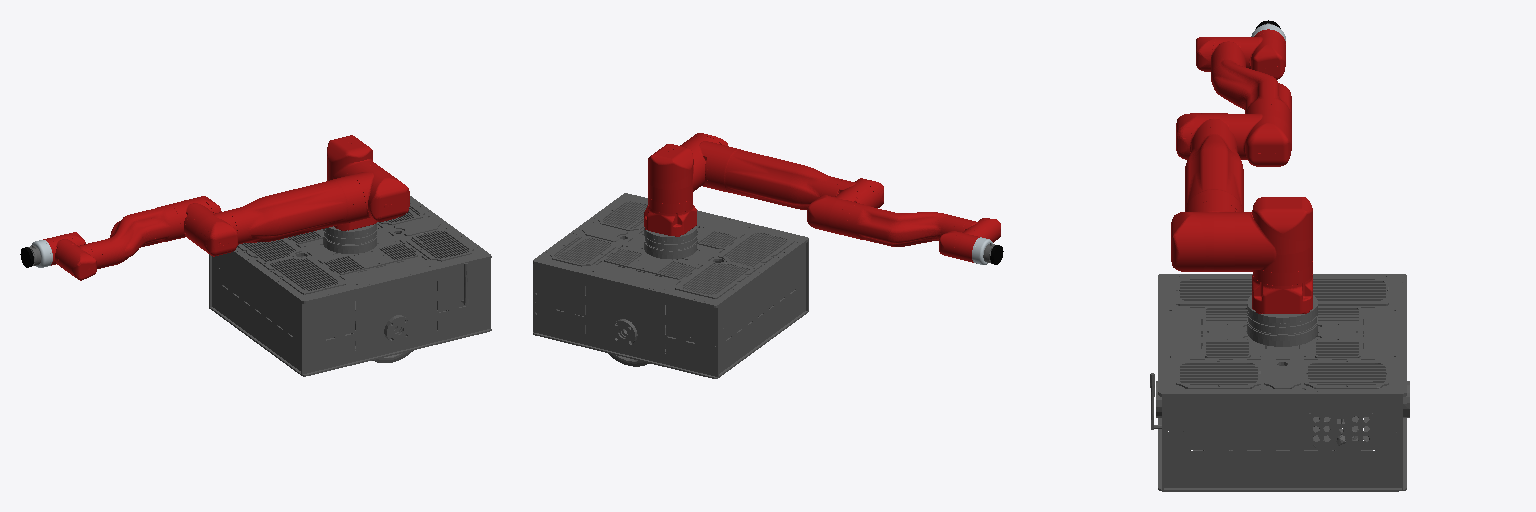
--- What the picture shows (computed from the rendered views, not written in the file) ---
3 views of the same robot in one strip: view 1: azimuth 30°, elevation 25°; view 2: azimuth 150°, elevation 25°; view 3: azimuth 270°, elevation 25° (orthographic).
Model mabi_mobile with 40 links and 39 joints (6 revolute, 33 fixed), rooted at base_link, posed every joint at zero.
Visible links, largest first — view 1: base_link, ARM, FOREARM, SHOULDER, BASE_FORCETORQUESENSOR, ELBOW; view 2: base_link, ARM, SHOULDER, FOREARM, ELBOW, WRIST_1, BASE_FORCETORQUESENSOR; view 3: base_link, ARM, SHOULDER, FOREARM, ELBOW, WRIST_1, BASE_FORCETORQUESENSOR, arm_mount.
Link boxes in pixels (x1,y1,x2,y2): base_link: (209, 196, 491, 376); ARM: (185, 165, 409, 256); FOREARM: (55, 205, 180, 280); SHOULDER: (327, 135, 382, 230); BASE_FORCETORQUESENSOR: (323, 228, 376, 249); ELBOW: (169, 196, 221, 238); base_link: (533, 193, 808, 378); ARM: (680, 133, 883, 209); SHOULDER: (644, 144, 705, 236); FOREARM: (847, 203, 1000, 246); ELBOW: (807, 192, 860, 236); WRIST_1: (939, 229, 980, 262); BASE_FORCETORQUESENSOR: (644, 230, 697, 254); base_link: (1150, 274, 1409, 491); ARM: (1171, 113, 1243, 271); SHOULDER: (1235, 197, 1312, 313); FOREARM: (1196, 37, 1291, 122); ELBOW: (1241, 104, 1291, 166); WRIST_1: (1249, 29, 1285, 79); BASE_FORCETORQUESENSOR: (1247, 310, 1317, 340); arm_mount: (1247, 295, 1317, 323).
Size in the robot's own frame: 1.81 by 0.7309 by 0.7686 metres.
Meshes: 16 distinct files referenced, 11 mesh visuals loaded (10 binary STL); not drawn: 11 (reference not matched to a file when rendering).

URDF robot description (mabi_mobile):
<?xml version="1.0" encoding="utf-8"?>
<!-- =================================================================================== -->
<!-- |    This document was autogenerated by xacro from [local-path]/catkin_ws/src/mabi_mobile/mabi_mobile_description/urdf/mabi_mobile.urdf.xacro | -->
<!-- |    EDITING THIS FILE BY HAND IS NOT RECOMMENDED                                 | -->
<!-- =================================================================================== -->
<robot name="mabi_mobile">
  <material name="black">
    <color rgba="0.0 0.0 0.0 1.0"/>
  </material>
  <material name="blue">
    <color rgba="0.0 0.0 0.8 1.0"/>
  </material>
  <material name="green">
    <color rgba="0.0 0.8 0.0 1.0"/>
  </material>
  <material name="grey">
    <color rgba="0.2 0.2 0.2 1.0"/>
  </material>
  <material name="light_grey">
    <color rgba="0.4 0.4 0.4 1.0"/>
  </material>
  <material name="orange">
    <color rgba="1.0 0.423529411765 0.0392156862745 1.0"/>
  </material>
  <material name="brown">
    <color rgba="0.870588235294 0.811764705882 0.764705882353 1.0"/>
  </material>
  <material name="red">
    <color rgba="0.8 0.0 0.0 1.0"/>
  </material>
  <material name="white">
    <color rgba="1.0 1.0 1.0 1.0"/>
  </material>
  <!-- [m] -->
  <!-- [m] -->
  <!-- [m] -->
  <!-- [m] -->
  <!-- [m] -->
  <!-- [m] -->
  <!-- [m] -->
  <!-- [m] -->
  <!-- [m] -->
  <!-- ====== -->
  <!-- [Nm] friction -->
  <!-- [Nm] -->
  <!-- [Nm] -->
  <!-- [Nm] -->
  <!-- [Nm] -->
  <!-- [Nm] -->
  <material name="mabi_red">
    <color rgba="0.698039215686 0.133333333333 0.133333333333 1.0"/>
  </material>
  <link name="BASE_ADAPTER_1">
    <visual>
      <origin rpy="0 0 0" xyz="0 0 0.009"/>
      <geometry>
        <cylinder length="0.018" radius="0.1"/>
      </geometry>
      <material name="gray">
        <color rgba="0.411764705882 0.411764705882 0.411764705882 1.0"/>
      </material>
    </visual>
    <collision name="collision">
      <origin rpy="0 0 0" xyz="0 0 0.009"/>
      <geometry>
        <cylinder length="0.018" radius="0.1"/>
      </geometry>
    </collision>
    <inertial>
      <origin rpy="0 0 0" xyz="0 0 0"/>
      <mass value="1.28"/>
      <inertia ixx="0.00063" ixy="0.0" ixz="0.0" iyy="0.00063" iyz="0.0" izz="0.0125"/>
    </inertial>
  </link>
  <!-- Joint: BASE_ADAPTER_1_JOINT -->
  <joint name="BASE_ADAPTER_1_JOINT" type="fixed">
    <parent link="arm_base"/>
    <child link="BASE_ADAPTER_1"/>
    <origin rpy="0 0 0" xyz="0.0 0.0 0.0"/>
  </joint>
  <!-- Gazebo customization -->
  <gazebo reference="BASE_ADAPTER_1">
    <kp>1000000.0</kp>
    <kd>1.5</kd>
    <mu1>1.2</mu1>
    <mu2>1.2</mu2>
    <self_collide>1</self_collide>
  </gazebo>
  <!-- -0.055/2-0.018, -sensor/2-adapter2  [m] -->
  <!-- Joint: SENSOR_FRAME -->
  <joint name="BASE_FORCETORQUESENSOR_FRAME" type="fixed">
    <parent link="BASE_ADAPTER_1"/>
    <child link="BASE_FORCETORQUESENSOR"/>
    <origin rpy="0.0 0.0 0.0" xyz="0.0 0.0 0.091"/>
    <limit effort="0" lower="0" upper="0" velocity="0"/>
  </joint>
  <!-- sensor link -->
  <link name="BASE_FORCETORQUESENSOR">
    <visual>
      <origin rpy="3.141593 0.0 0.0" xyz="0.0 0.0 -0.028"/>
      <geometry>
        <mesh filename="package://perceptive_mpc/urdf/mabi/meshes/RKL100.stl" scale="0.001 0.001 0.001"/>
      </geometry>
      <material name="gray">
        <color rgba="0.411764705882 0.411764705882 0.411764705882 1.0"/>
      </material>
    </visual>
    <inertial>
      <origin rpy="0 0 1.57079327" xyz="0.0 0.0 -0.033"/>
      <mass value="2.5"/>
      <inertia ixx="0.0" ixy="0.0" ixz="0.0" iyy="0.0" iyz="0.0" izz="0.0"/>
    </inertial>
    <collision name="collision">
      <origin rpy="0 0 0" xyz="0.0 0.0 -0.0455"/>
      <geometry>
        <cylinder length="0.055" radius="0.1"/>
      </geometry>
    </collision>
  </link>
  <joint name="BASE_FORCETORQUESENSOR_JOINT" type="fixed">
    <parent link="BASE_FORCETORQUESENSOR"/>
    <child link="arm_mount"/>
    <origin rpy="0 0 0" xyz="0 0 0"/>
    <limit effort="0" lower="0" upper="0" velocity="0"/>
  </joint>
  <!-- Gazebo customization -->
  <gazebo reference="BASE_FORCETORQUESENSOR">
    <kp>1000000.0</kp>
    <kd>1.5</kd>
    <mu1>1000000000</mu1>
    <mu2>1000000000</mu2>
    <self_collide>1</self_collide>
  </gazebo>
  <gazebo reference="BASE_FORCETORQUESENSOR_JOINT">
    <provideFeedback>1</provideFeedback>
  </gazebo>
  <link name="BASE_IMU"/>
  <joint name="BASE_IMU_JOINT" type="fixed">
    <origin rpy="0 0 0" xyz="0 0 0"/>
    <parent link="BASE_FORCETORQUESENSOR"/>
    <child link="BASE_IMU"/>
  </joint>
  <link name="arm_mount">
    <visual>
      <origin rpy="0 0 0" xyz="0.0 0.0 -0.009"/>
      <geometry>
        <cylinder length="0.018" radius="0.1"/>
      </geometry>
      <material name="gray">
        <color rgba="0.411764705882 0.411764705882 0.411764705882 1.0"/>
      </material>
    </visual>
    <collision name="collision">
      <origin rpy="0 0 0" xyz="0 0 0.009"/>
      <geometry>
        <cylinder length="0.017" radius="0.1"/>
        <!-- -0.001 to prevent collision with base sensor if revolute sensor joint bends-->
      </geometry>
    </collision>
    <inertial>
      <origin rpy="0 0 0" xyz="0 0 0"/>
      <mass value="1.28"/>
      <inertia ixx="0.5" ixy="0.0" ixz="0.0" iyy="0.5" iyz="0.0" izz="0.0"/>
    </inertial>
  </link>
  <!-- Gazebo customization -->
  <gazebo reference="arm_mount">
    <kp>1000000.0</kp>
    <kd>1.5</kd>
    <mu1>1.2</mu1>
    <mu2>1.2</mu2>
    <self_collide>1</self_collide>
  </gazebo>
  <!-- shoulder link -->
  <link name="SHOULDER">
    <visual>
      <origin rpy="0 0 0" xyz="0 0 0"/>
      <geometry>
        <mesh filename="package://perceptive_mpc/urdf/mabi/meshes/shoulder.STL" scale="0.001 0.001 0.001"/>
      </geometry>
      <material name="mabi_red"/>
    </visual>
    <collision name="collision">
      <origin rpy="0.0 0.0 0.0" xyz="0.0 0.0 -0.03"/>
      <geometry>
        <cylinder length="0.31" radius="0.09"/>
      </geometry>
    </collision>
    <inertial>
      <origin rpy="0 0 0" xyz="-0.047924822 0.0 -0.002274739"/>
      <mass value="7.6494994"/>
      <inertia ixx="0.029999999" ixy="3.2869e-05" ixz="0.000721956" iyy="0.059745945" iyz="1.0358e-05" izz="0.056496362"/>
    </inertial>
  </link>
  <!-- Joint: SH_ROT -->
  <joint name="SH_ROT" type="revolute">
    <parent link="arm_mount"/>
    <child link="SHOULDER"/>
    <origin rpy="0 0 0" xyz="0.0 0.0 0.189"/>
    <axis xyz="0 0 1"/>
    <limit effort="150.0" lower="-5.23598775598" upper="5.23598775598" velocity="1.308996939"/>
    <dynamics damping="0.1" friction="0.3"/>
  </joint>
  <!-- Gazebo customization -->
  <gazebo reference="SHOULDER">
    <kp>1000000.0</kp>
    <kd>1.5</kd>
    <mu1>1.2</mu1>
    <mu2>1.2</mu2>
    <self_collide>1</self_collide>
  </gazebo>
  <gazebo reference="SH_ROT">
        </gazebo>
  <!-- arm link -->
  <link name="ARM">
    <visual>
      <origin rpy="0 0 0" xyz="0 0 0"/>
      <geometry>
        <mesh filename="package://perceptive_mpc/urdf/mabi/meshes/arm.STL" scale="0.001 0.001 0.001"/>
      </geometry>
      <material name="mabi_red"/>
    </visual>
    <collision name="collision_motor_1">
      <origin rpy="0.0 0.0 0.0" xyz="0.0 0.0 0.205"/>
      <geometry>
        <cylinder length="0.22" radius="0.09"/>
      </geometry>
    </collision>
    <collision name="collision_arm">
      <origin rpy="0.0 1.57079632679 0.0" xyz="0.36 0.0 0.195"/>
      <geometry>
        <cylinder length="0.52" radius="0.085"/>
      </geometry>
    </collision>
    <collision name="collision_motor_2">
      <origin rpy="0.0 0.0 0.0" xyz="0.7 0.0 0.205"/>
      <geometry>
        <cylinder length="0.19" radius="0.07"/>
      </geometry>
    </collision>
    <inertial>
      <origin rpy="0 0 0" xyz="0.29409722 0.0 0.19270522"/>
      <mass value="13.640494"/>
      <inertia ixx="0.060898243" ixy="-0.00013513623" ixz="-0.013074267" iyy="1.1757653" iyz="-2.6102602e-05" izz="1.1722998"/>
    </inertial>
  </link>
  <!-- Joint: SH_FLE -->
  <joint name="SH_FLE" type="revolute">
    <parent link="SHOULDER"/>
    <child link="ARM"/>
    <origin rpy="-1.57079632679 0 1.57079632679" xyz="0.0 0.0 0.0"/>
    <axis xyz="0 0 1"/>
    <limit effort="150.0" lower="-3.14159265359" upper="0.0" velocity="1.308996939"/>
    <dynamics damping="0.1" friction="0.3"/>
  </joint>
  <!-- Gazebo customization -->
  <gazebo reference="ARM">
    <kp>1000000.0</kp>
    <kd>1.5</kd>
    <mu1>1.2</mu1>
    <mu2>1.2</mu2>
  </gazebo>
  <gazebo reference="SH_FLE">
        </gazebo>
  <!-- Elbow link -->
  <link name="ELBOW">
    <visual>
      <origin rpy="0 0 0" xyz="0 0 0.0"/>
      <geometry>
        <mesh filename="package://perceptive_mpc/urdf/mabi/meshes/elbow.STL" scale="0.001 0.001 0.001"/>
      </geometry>
      <material name="mabi_red"/>
    </visual>
    <collision name="collision">
      <origin rpy="0.0 1.57079632679 0.0" xyz="0.115 0.0 0.0"/>
      <geometry>
        <cylinder length="0.46" radius="0.066"/>
      </geometry>
    </collision>
    <inertial>
      <origin rpy="0 0 0" xyz="-0.0045213596 -0.0001046407 0.035705904"/>
      <mass value="4.6480036"/>
      <inertia ixx="0.021549076" ixy="-2.5845846e-05" ixz="-0.00062888563" iyy="0.02331519" iyz="-3.1906253e-05" izz="0.011591539"/>
    </inertial>
  </link>
  <!-- Joint: EL_FLE -->
  <joint name="EL_FLE" type="revolute">
    <parent link="ARM"/>
    <child link="ELBOW"/>
    <origin rpy="0 0 0" xyz="0.7 0.0 0.04"/>
    <axis xyz="0 0 1"/>
    <limit effort="100.0" lower="-2.47836753783" upper="2.47836753783" velocity="2.53072741539"/>
    <dynamics damping="0.1" friction="0.2"/>
  </joint>
  <!-- Gazebo customization -->
  <gazebo reference="ELBOW">
    <kp>1000000.0</kp>
    <kd>1.5</kd>
    <mu1>1.2</mu1>
    <mu2>1.2</mu2>
  </gazebo>
  <gazebo reference="EL_FLE">
        </gazebo>
  <!-- Forearm link -->
  <link name="FOREARM">
    <visual>
      <origin rpy="0 0 0" xyz="0 0 0"/>
      <geometry>
        <mesh filename="package://perceptive_mpc/urdf/mabi/meshes/forearm.STL" scale="0.001 0.001 0.001"/>
      </geometry>
      <material name="mabi_red"/>
    </visual>
    <collision name="collision_farm">
      <origin rpy="0.0 0.0 0.0" xyz="0.0 0.115 0.37"/>
      <geometry>
        <cylinder length="0.25" radius="0.048"/>
      </geometry>
    </collision>
    <collision name="collision_motor">
      <origin rpy="1.57079632679 0.0 0.0" xyz="0.0 0.13 0.55"/>
      <geometry>
        <cylinder length="0.145" radius="0.05"/>
      </geometry>
    </collision>
    <inertial>
      <origin rpy="0 0 0" xyz="-0.00051024005 0.047442921 0.27441632"/>
      <mass value="5.7271652"/>
      <inertia ixx="0.24731453" ixy="-0.00015557711" ixz="-0.0003643398" iyy="0.2306736" iyz="-0.05673063" izz="0.029585235"/>
    </inertial>
  </link>
  <!-- Joint: EL_ROT -->
  <joint name="EL_ROT" type="revolute">
    <parent link="ELBOW"/>
    <child link="FOREARM"/>
    <origin rpy="1.57079632679 0 1.57079632679" xyz="0.0 0.0 0.0"/>
    <axis xyz="0 0 1"/>
    <limit effort="40.0" lower="-5.23598775598" upper="5.23598775598" velocity="2.53072741539"/>
    <dynamics damping="0.1" friction="0.2"/>
  </joint>
  <!-- Gazebo customization -->
  <gazebo reference="FOREARM">
    <kp>1000000.0</kp>
    <kd>1.5</kd>
    <mu1>1.2</mu1>
    <mu2>1.2</mu2>
  </gazebo>
  <gazebo reference="EL_ROT">
        </gazebo>
  <!-- wrist1 link -->
  <link name="WRIST_1">
    <visual>
      <origin rpy="0 0 0" xyz="0 0 0.0"/>
      <geometry>
        <mesh filename="package://perceptive_mpc/urdf/mabi/meshes/wrist.STL" scale="0.001 0.001 0.001"/>
      </geometry>
      <material name="mabi_red"/>
    </visual>
    <collision name="collision">
      <origin rpy="1.57079632679 0.0 0.0" xyz="0.0 0.016 0.0"/>
      <geometry>
        <cylinder length="0.148" radius="0.05"/>
      </geometry>
    </collision>
    <inertial>
      <origin rpy="0 0 0" xyz="0.0 0.0 0.0"/>
      <mass value="1.9710281"/>
      <inertia ixx="0.0066945672" ixy="4.5275e-06" ixz="-7.5009e-06" iyy="0.0055642118" iyz="0.0003509941" izz="0.0038716147"/>
    </inertial>
  </link>
  <!-- Joint: WR_FLE -->
  <joint name="WR_FLE" type="revolute">
    <parent link="FOREARM"/>
    <child link="WRIST_1"/>
    <origin rpy="-1.57079632679 0 0" xyz="0.0 0.0 0.55"/>
    <axis xyz="0 0 1"/>
    <limit effort="40.0" lower="-2.39110107523" upper="2.39110107523" velocity="4.79965544298"/>
    <dynamics damping="0.1" friction="0.1"/>
  </joint>
  <!-- Gazebo customization -->
  <gazebo reference="WRIST_1">
    <kp>1000000.0</kp>
    <kd>1.5</kd>
    <mu1>1.2</mu1>
    <mu2>1.2</mu2>
  </gazebo>
  <gazebo reference="WR_FLE">
        </gazebo>
  <!-- Wrist2 link -->
  <link name="WRIST_2">
    <visual>
      <origin rpy="0 0 0" xyz="0 0.0 -0.01"/>
      <geometry>
        <mesh filename="package://perceptive_mpc/urdf/mabi/meshes/tool.STL" scale="0.001 0.001 0.001"/>
      </geometry>
      <material name="silver">
        <color rgba="0.737254901961 0.776470588235 0.8 1.0"/>
      </material>
    </visual>
    <collision name="collision">
      <origin rpy="0.0 0.0 0.0" xyz="0.0 0.0 -0.02"/>
      <geometry>
        <cylinder length="0.038" radius="0.05"/>
      </geometry>
    </collision>
    <inertial>
      <origin rpy="0 0 0" xyz="-0.00038203947 -0.0019245031 -0.03"/>
      <mass value="1.7057686"/>
      <inertia ixx="0.0046630423" ixy="-1.6647842e-07" ixz="-2.5100296e-05" iyy="0.0046335717" iyz="4.8450275e-05" izz="0.002284043"/>
    </inertial>
  </link>
  <!-- Joint: WR_ROT -->
  <joint name="WR_ROT" type="revolute">
    <parent link="WRIST_1"/>
    <child link="WRIST_2"/>
    <origin rpy="1.57079632679 0 0" xyz="0.0 -0.1 0.0"/>
    <axis xyz="0 0 1"/>
    <limit effort="40.0" lower="-3.14159265359" upper="3.14159265359" velocity="4.79965544298"/>
    <dynamics damping="0.1" friction="0.1"/>
  </joint>
  <!-- Gazebo customization -->
  <gazebo reference="WRIST_2">
    <kp>1000000.0</kp>
    <kd>1.5</kd>
    <mu1>1.2</mu1>
    <mu2>1.2</mu2>
  </gazebo>
  <gazebo reference="WR_ROT">
        </gazebo>
  <!-- [m] -->
  <!-- Joint: SENSOR_FRAME -->
  <joint name="EE_FORCETORQUESENSOR_FRAME" type="fixed">
    <parent link="WRIST_2"/>
    <child link="EE_FORCETORQUESENSOR"/>
    <origin rpy="0.0 0.0 0" xyz="0.0 0.0 0.034"/>
    <limit effort="0" lower="0" upper="0" velocity="0"/>
  </joint>
  <!-- sensor link -->
  <link name="EE_FORCETORQUESENSOR">
    <visual>
      <origin rpy="1.570796327 0.0 1.57079327" xyz="-0.2458 -0.1323 -0.034"/>
      <geometry>
        <mesh filename="package://perceptive_mpc/urdf/mabi/meshes/R212.STL" scale="0.001 0.001 0.001"/>
      </geometry>
      <material name="gray">
        <color rgba="0.411764705882 0.411764705882 0.411764705882 1.0"/>
      </material>
    </visual>
    <inertial>
      <origin rpy="0 0 1.57079327" xyz="0.0 0.0 -0.017"/>
      <mass value="0.23"/>
      <inertia ixx="0.0" ixy="0.0" ixz="0.0" iyy="0.0" iyz="0.0" izz="0.0"/>
    </inertial>
    <collision name="collision">
      <origin rpy="0 0 0" xyz="0.0 0.0 -0.017"/>
      <geometry>
        <cylinder length="0.034" radius="0.034"/>
      </geometry>
    </collision>
  </link>
  <joint name="EE_FORCETORQUESENSOR_JOINT" type="fixed">
    <parent link="EE_FORCETORQUESENSOR"/>
    <child link="FT_FLANGE"/>
    <origin rpy="0 0 0" xyz="0 0 0"/>
    <limit effort="0" lower="0" upper="0" velocity="0"/>
  </joint>
  <!-- Gazebo customization -->
  <gazebo reference="EE_FORCETORQUESENSOR">
    <kp>1000000.0</kp>
    <kd>1.5</kd>
    <mu1>1000000000</mu1>
    <mu2>1000000000</mu2>
    <self_collide>1</self_collide>
  </gazebo>
  <gazebo reference="EE_FORCETORQUESENSOR_JOINT">
    <provideFeedback>1</provideFeedback>
  </gazebo>
  <link name="EE_IMU"/>
  <joint name="EE_IMU_JOINT" type="fixed">
    <origin rpy="0 0 0" xyz="0 0 0"/>
    <parent link="EE_FORCETORQUESENSOR"/>
    <child link="EE_IMU"/>
  </joint>
  <link name="FT_FLANGE"/>
  <joint name="robotiq_coupler_coupler_joint" type="fixed">
    <!-- total height of coupler, minus the depth of robot end-effector shape and the gripper small depth-->
    <origin rpy="0 0 1.57079632679" xyz="0 0 0.0079"/>
    <parent link="FT_FLANGE"/>
    <child link="robotiq_coupler"/>
  </joint>
  <link name="robotiq_coupler">
    <visual>
      <origin rpy="0 0 0" xyz="0 0 -0.00395"/>
      <geometry>
        <!-- only the visible part of the coupler -->
        <cylinder length="0.0139" radius="0.0375"/>
      </geometry>
      <material name="dark_grey">
        <color rgba="0.05 0.05 0.05 1"/>
      </material>
    </visual>
    <collision>
      <origin rpy="0 0 0" xyz="0 0 0"/>
      <geometry>
        <cylinder length="0.0139" radius="0.0375"/>
      </geometry>
    </collision>
    <inertial>
      <mass value="0.1"/>
      <origin xyz="0 0 0.00695"/>
      <inertia ixx="3.67663333333e-05" ixy="0" ixz="0" iyy="3.67663333333e-05" iyz="0" izz="7.03125e-05"/>
    </inertial>
  </link>
  <!-- base -->
  <joint name="robotiq_coupler_GRIPPER_BASE_joint" type="fixed">
    <limit effort="0" lower="0" upper="0" velocity="0"/>
    <parent link="robotiq_coupler"/>
    <child link="GRIPPER_BASE"/>
  </joint>
  <link name="GRIPPER_BASE">
    <inertial>
      <mass value="0.2"/>
      <origin xyz="0 0 0.0075"/>
      <inertia ixx="0.00011375" ixy="0" ixz="0" iyy="0.00011375" iyz="0" izz="0.00016"/>
    </inertial>
    <visual>
      <geometry>
        <mesh filename="package://perceptive_mpc/urdf/mabi/meshes/base.stl" scale="0.001 0.001 0.001"/>
      </geometry>
    </visual>
    <collision>
      <origin rpy="0 0 0" xyz="0 0 0.015"/>
      <geometry>
        <cylinder length="0.045" radius="0.04"/>
      </geometry>
    </collision>
    <collision>
      <origin rpy="0 0 0" xyz="0 0 0.06"/>
      <geometry>
        <box size="0.03 0.04 0.06"/>
      </geometry>
    </collision>
  </link>
  <gazebo reference="GRIPPER_BASE">
    <kp>1000000.0</kp>
    <kd>1.5</kd>
    <mu1>1.2</mu1>
    <mu2>1.2</mu2>
  </gazebo>
  <!-- right finger -->
  <joint name="GRIPPER_JOINT" type="fixed">
    <origin rpy="0 0 0" xyz="0 0.0306011 0.054904"/>
    <parent link="GRIPPER_BASE"/>
    <child link="GRIPPER_right_driver"/>
    <axis xyz="1 0 0"/>
    <limit effort="60" lower="0.0" upper="0.872664444444" velocity="1.91986177778"/>
  </joint>
  <link name="GRIPPER_right_driver">
    <inertial>
      <mass value="0.05"/>
      <origin rpy="0 0 0" xyz="0 0.02 0"/>
      <inertia ixx="8.33333333333e-06" ixy="0" ixz="0" iyy="3.33333333333e-06" iyz="0" izz="8.33333333333e-06"/>
    </inertial>
    <visual>
      <geometry>
        <mesh filename="package://perceptive_mpc/urdf/mabi/meshes/driver.dae" scale="0.001 0.001 0.001"/>
      </geometry>
    </visual>
    <collision>
      <origin rpy="-0.1 0 0" xyz="0 0.02 0"/>
      <geometry>
        <box size="0.02 0.04 0.02"/>
      </geometry>
    </collision>
  </link>
  <joint name="GRIPPER_right_coupler_joint" type="fixed">
    <origin rpy="0 0 0" xyz="0 0.0315 -0.0041"/>
    <parent link="GRIPPER_right_driver"/>
    <child link="GRIPPER_right_coupler"/>
  </joint>
  <link name="GRIPPER_right_coupler">
    <inertial>
      <mass value="0.05"/>
      <origin rpy="-1.7 0 0" xyz="0 0.0 0.025"/>
      <inertia ixx="1.92708333333e-05" ixy="0" ixz="0" iyy="5.41666666667e-06" iyz="0" izz="2.13541666667e-05"/>
    </inertial>
    <visual>
      <geometry>
        <mesh filename="package://perceptive_mpc/urdf/mabi/meshes/coupler.dae" scale="0.001 0.001 0.001"/>
      </geometry>
    </visual>
    <collision>
      <origin rpy="-1.7 0 0" xyz="0 0.0 0.025"/>
      <geometry>
        <box size="0.03 0.065 0.02"/>
      </geometry>
    </collision>
  </link>
  <joint name="GRIPPER_right_follower_joint" type="fixed">
    <origin rpy="0 0 0" xyz="0 0.0061 0.0471"/>
    <parent link="GRIPPER_right_coupler"/>
    <child link="GRIPPER_right_follower"/>
    <axis xyz="1 0 0"/>
    <limit effort="176" lower="-2.96705911111" upper="2.96705911111" velocity="1.91986177778"/>
    <mimic joint="GRIPPER_JOINT" multiplier="-1"/>
  </joint>
  <link name="GRIPPER_right_follower">
    <inertial>
      <mass value="0.05"/>
      <origin xyz="0 -0.018 0.022"/>
      <inertia ixx="1.05375e-05" ixy="0" ixz="0" iyy="1.12666666667e-05" iyz="0" izz="2.60416666667e-06"/>
    </inertial>
    <visual>
      <geometry>
        <mesh filename="package://perceptive_mpc/urdf/mabi/meshes/follower.dae" scale="0.001 0.001 0.001"/>
      </geometry>
    </visual>
    <collision>
      <origin rpy="0 0 0" xyz="0 -0.018 0.022"/>
      <geometry>
        <box size="0.02 0.015 0.048"/>
      </geometry>
    </collision>
  </link>
  <joint name="GRIPPER_right_pad_joint" type="fixed">
    <parent link="GRIPPER_right_follower"/>
    <child link="GRIPPER_right_pad"/>
  </joint>
  <link name="GRIPPER_right_pad">
    <inertial>
      <mass value="0.01"/>
      <origin xyz="0 -0.022 0.031"/>
      <inertia ixx="1.13333333333e-06" ixy="0" ixz="0" iyy="1.41333333333e-06" iyz="0" izz="3.86666666667e-07"/>
    </inertial>
    <visual>
      <geometry>
        <mesh filename="package://perceptive_mpc/urdf/mabi/meshes/pad.dae" scale="0.001 0.001 0.001"/>
      </geometry>
    </visual>
    <collision>
      <origin rpy="0 0 0" xyz="0 -0.022 0.031"/>
      <geometry>
        <box size="0.02 0.008 0.036"/>
      </geometry>
    </collision>
  </link>
  <gazebo reference="GRIPPER_right_pad">
    <kp>1000000.0</kp>
    <kd>1.5</kd>
    <mu1>1.2</mu1>
    <mu2>1.2</mu2>
  </gazebo>
  <joint name="GRIPPER_right_spring_link_joint" type="fixed">
    <origin rpy="0 0 0" xyz="0 0.012 0.0614"/>
    <parent link="GRIPPER_BASE"/>
    <child link="GRIPPER_right_spring_link"/>
    <axis xyz="1 0 0"/>
    <limit effort="176" lower="-2.96705911111" upper="2.96705911111" velocity="1.91986177778"/>
    <mimic joint="GRIPPER_JOINT" multiplier="1"/>
  </joint>
  <link name="GRIPPER_right_spring_link">
    <inertial>
      <mass value="0.05"/>
      <origin rpy="-0.7068 0 0" xyz="0 0.018 0.018"/>
      <inertia ixx="1.92708333333e-05" ixy="0" ixz="0" iyy="2.42708333333e-05" iyz="0" izz="8.33333333333e-06"/>
    </inertial>
    <visual>
      <geometry>
        <mesh filename="package://perceptive_mpc/urdf/mabi/meshes/spring_link.dae" scale="0.001 0.001 0.001"/>
      </geometry>
    </visual>
    <collision>
      <origin rpy="-0.7068 0 0" xyz="0 0.018 0.018"/>
      <geometry>
        <box size="0.04 0.02 0.065"/>
      </geometry>
    </collision>
  </link>
  <!-- left finger -->
  <joint name="GRIPPER_left_driver_joint" type="fixed">
    <origin rpy="0 0 3.141592653589793" xyz="0 -0.0306011 0.054904"/>
    <parent link="GRIPPER_BASE"/>
    <child link="GRIPPER_left_driver"/>
    <axis xyz="1 0 0"/>
    <limit effort="176" lower="0.0" upper="0.872664444444" velocity="1.91986177778"/>
    <mimic joint="GRIPPER_JOINT" multiplier="1"/>
  </joint>
  <link name="GRIPPER_left_driver">
    <inertial>
      <mass value="0.05"/>
      <origin rpy="0 0 0" xyz="0 0.02 0"/>
      <inertia ixx="8.33333333333e-06" ixy="0" ixz="0" iyy="3.33333333333e-06" iyz="0" izz="8.33333333333e-06"/>
    </inertial>
    <visual>
      <geometry>
        <mesh filename="package://perceptive_mpc/urdf/mabi/meshes/driver.dae" scale="0.001 0.001 0.001"/>
      </geometry>
    </visual>
    <collision>
      <origin rpy="-0.1 0 0" xyz="0 0.02 0"/>
      <geometry>
        <box size="0.02 0.04 0.02"/>
      </geometry>
    </collision>
  </link>
  <joint name="GRIPPER_left_coupler_joint" type="fixed">
    <origin rpy="0 0 0" xyz="0 0.0315 -0.0041"/>
    <parent link="GRIPPER_left_driver"/>
    <child link="GRIPPER_left_coupler"/>
  </joint>
  <link name="GRIPPER_left_coupler">
    <inertial>
      <mass value="0.05"/>
      <origin rpy="-1.7 0 0" xyz="0 0.0 0.025"/>
      <inertia ixx="1.92708333333e-05" ixy="0" ixz="0" iyy="5.41666666667e-06" iyz="0" izz="2.13541666667e-05"/>
    </inertial>
    <visual>
      <geometry>
        <mesh filename="package://perceptive_mpc/urdf/mabi/meshes/coupler.dae" scale="0.001 0.001 0.001"/>
      </geometry>
    </visual>
    <collision>
      <origin rpy="-1.7 0 0" xyz="0 0.0 0.025"/>
      <geometry>
        <box size="0.03 0.065 0.02"/>
      </geometry>
    </collision>
  </link>
  <joint name="GRIPPER_left_follower_joint" type="fixed">
    <origin rpy="0 0 0" xyz="0 0.0061 0.0471"/>
    <parent link="GRIPPER_left_coupler"/>
    <child link="GRIPPER_left_follower"/>
    <axis xyz="1 0 0"/>
    <limit effort="176" lower="-2.96705911111" upper="2.96705911111" velocity="1.91986177778"/>
    <mimic joint="GRIPPER_JOINT" multiplier="-1"/>
  </joint>
  <link name="GRIPPER_left_follower">
    <inertial>
      <mass value="0.05"/>
      <origin xyz="0 -0.018 0.022"/>
      <inertia ixx="1.05375e-05" ixy="0" ixz="0" iyy="1.12666666667e-05" iyz="0" izz="2.60416666667e-06"/>
    </inertial>
    <visual>
      <geometry>
        <mesh filename="package://perceptive_mpc/urdf/mabi/meshes/follower.dae" scale="0.001 0.001 0.001"/>
      </geometry>
    </visual>
    <collision>
      <origin rpy="0 0 0" xyz="0 -0.018 0.022"/>
      <geometry>
        <box size="0.02 0.015 0.048"/>
      </geometry>
    </collision>
  </link>
  <joint name="GRIPPER_left_pad_joint" type="fixed">
    <parent link="GRIPPER_left_follower"/>
    <child link="GRIPPER_left_pad"/>
  </joint>
  <link name="GRIPPER_left_pad">
    <inertial>
      <mass value="0.01"/>
      <origin xyz="0 -0.022 0.031"/>
      <inertia ixx="1.13333333333e-06" ixy="0" ixz="0" iyy="1.41333333333e-06" iyz="0" izz="3.86666666667e-07"/>
    </inertial>
    <visual>
      <geometry>
        <mesh filename="package://perceptive_mpc/urdf/mabi/meshes/pad.dae" scale="0.001 0.001 0.001"/>
      </geometry>
    </visual>
    <collision>
      <origin rpy="0 0 0" xyz="0 -0.022 0.031"/>
      <geometry>
        <box size="0.02 0.008 0.036"/>
      </geometry>
    </collision>
  </link>
  <gazebo reference="GRIPPER_left_pad">
    <kp>1000000.0</kp>
    <kd>1.5</kd>
    <mu1>1.2</mu1>
    <mu2>1.2</mu2>
  </gazebo>
  <joint name="GRIPPER_left_spring_link_joint" type="fixed">
    <origin rpy="0 0 3.141592653589793" xyz="0 -0.012 0.0614"/>
    <parent link="GRIPPER_BASE"/>
    <child link="GRIPPER_left_spring_link"/>
    <axis xyz="1 0 0"/>
    <limit effort="176" lower="-2.96705911111" upper="2.96705911111" velocity="1.91986177778"/>
    <mimic joint="GRIPPER_JOINT" multiplier="1"/>
  </joint>
  <link name="GRIPPER_left_spring_link">
    <inertial>
      <mass value="0.05"/>
      <origin rpy="-0.7068 0 0" xyz="0 0.018 0.018"/>
      <inertia ixx="1.92708333333e-05" ixy="0" ixz="0" iyy="2.42708333333e-05" iyz="0" izz="8.33333333333e-06"/>
    </inertial>
    <visual>
      <geometry>
        <mesh filename="package://perceptive_mpc/urdf/mabi/meshes/spring_link.dae" scale="0.001 0.001 0.001"/>
      </geometry>
    </visual>
    <collision>
      <origin rpy="-0.7068 0 0" xyz="0 0.018 0.018"/>
      <geometry>
        <box size="0.04 0.02 0.065"/>
      </geometry>
    </collision>
  </link>
  <transmission name="GRIPPER_right_driver_trans">
    <type>transmission_interface/SimpleTransmission</type>
    <joint name="GRIPPER_JOINT">
      <hardwareInterface>hardware_interface/PositionJointInterface</hardwareInterface>
    </joint>
    <actuator name="GRIPPER_right_driver_motor">
      <mechanicalReduction>1</mechanicalReduction>
    </actuator>
  </transmission>
  <joint name="GRIPPER_BASE_ENDEFFECTOR_JOINT" type="fixed">
    <origin rpy="0 0 0" xyz="0 0 0.14"/>
    <parent link="GRIPPER_BASE"/>
    <child link="ENDEFFECTOR"/>
  </joint>
  <link name="ENDEFFECTOR"/>
  <!-- Base link is the center of the robot's bottom plate -->
  <link name="base_link">
    <visual>
      <origin rpy="0 0 0" xyz="0 0 0"/>
      <geometry>
        <mesh filename="package://perceptive_mpc/urdf/mabi/meshes/base_simplified.stl"/>
      </geometry>
      <material name="gray">
        <color rgba="0.4 0.4 0.4 1"/>
      </material>
    </visual>
    <collision>
      <origin rpy="0 0 0" xyz="0 0 0.299"/>
      <geometry>
        <box size="0.8 0.7 0.02"/>
      </geometry>
    </collision>
    <collision>
      <origin rpy="0 0 0" xyz="0.39 0 0.1445"/>
      <geometry>
        <box size="0.02 0.7 0.289"/>
      </geometry>
    </collision>
    <collision>
      <origin rpy="0 0 0" xyz="-0.39 0 0.1445"/>
      <geometry>
        <box size="0.02 0.7 0.289"/>
      </geometry>
    </collision>
    <collision>
      <origin rpy="0 0 0" xyz="0 0.34 0.1445"/>
      <geometry>
        <box size="0.76 0.02 0.289"/>
      </geometry>
    </collision>
    <collision>
      <origin rpy="0 0 0" xyz="0 -0.34 0.1445"/>
      <geometry>
        <box size="0.76 0.02 0.289"/>
      </geometry>
    </collision>
    <self_filter>
      <origin rpy="0 0 0" xyz="0 0 0.1545"/>
      <geometry>
        <box size="0.8 0.7 0.309"/>
      </geometry>
    </self_filter>
  </link>
  <!-- Base footprint is on the ground plate of the robot -->
  <link name="base_footprint"/>
  <joint name="base_footprint_joint" type="fixed">
    <origin rpy="0 0 0" xyz="0 0 -0.05"/>
    <parent link="base_link"/>
    <child link="base_footprint"/>
  </joint>
  <!-- Interial link stores the robot's inertial information -->
  <link name="base_link_inertia">
    <inertial>
      <mass value="60"/>
      <!-- Update inertias -->
      <origin xyz="0.0 0.0 0.0"/>
      <inertia ixx="2.927405" ixy="0.0" ixz="0.0" iyy="3.677405" iyz="0.0" izz="5.6274"/>
    </inertial>
  </link>
  <joint name="inertial_joint" type="fixed">
    <origin rpy="0 0 0" xyz="0 0 0.1545"/>
    <parent link="base_link"/>
    <child link="base_link_inertia"/>
  </joint>
  <link name="L_WHEEL">
    <inertial>
      <mass value="10.9"/>
      <origin xyz="0 0 0"/>
      <inertia ixx="0.0645825" ixy="0" ixz="0" iyy="0.122625" iyz="0" izz="0.0645825"/>
    </inertial>
    <visual>
      <origin rpy="0 0 0" xyz="0 0 0"/>
      <geometry>
        <mesh filename="package://perceptive_mpc/urdf/mabi/meshes/wheel_simplified.stl"/>
      </geometry>
      <material name="gray">
        <color rgba="0.4 0.4 0.4 1"/>
      </material>
    </visual>
    <collision>
      <origin rpy="1.5707963268 0 0" xyz="0 0 0"/>
      <geometry>
        <cylinder length="0.06" radius="0.15"/>
      </geometry>
    </collision>
  </link>
  <gazebo reference="L_WHEEL">
    <mu1 value="1.0"/>
    <mu2 value="1.0"/>
    <kp value="10000000.0"/>
    <kd value="1.0"/>
    <fdir1 value="1 0 0"/>
  </gazebo>
  <joint name="J_L_WHEEL" type="fixed">
    <parent link="base_link"/>
    <child link="L_WHEEL"/>
    <origin rpy="0 0 0" xyz="0.0 0.29 0.1"/>
    <axis rpy="0 0 0" xyz="0 1 0"/>
    <limit effort="50" velocity="100"/>
  </joint>
  <transmission name="L_WHEEL_TRANS" type="SimpleTransmission">
    <type>transmission_interface/SimpleTransmission</type>
    <actuator name="L_WHEEL_MOTOR">
      <mechanicalReduction>1</mechanicalReduction>
    </actuator>
    <joint name="J_L_WHEEL">
      <hardwareInterface>hardware_interface/VelocityJointInterface</hardwareInterface>
    </joint>
  </transmission>
  <link name="R_WHEEL">
    <inertial>
      <mass value="10.9"/>
      <origin xyz="0 0 0"/>
      <inertia ixx="0.0645825" ixy="0" ixz="0" iyy="0.122625" iyz="0" izz="0.0645825"/>
    </inertial>
    <visual>
      <origin rpy="0 0 0" xyz="0 0 0"/>
      <geometry>
        <mesh filename="package://perceptive_mpc/urdf/mabi/meshes/wheel_simplified.stl"/>
      </geometry>
      <material name="gray">
        <color rgba="0.4 0.4 0.4 1"/>
      </material>
    </visual>
    <collision>
      <origin rpy="1.5707963268 0 0" xyz="0 0 0"/>
      <geometry>
        <cylinder length="0.06" radius="0.15"/>
      </geometry>
    </collision>
  </link>
  <gazebo reference="R_WHEEL">
    <mu1 value="1.0"/>
    <mu2 value="1.0"/>
    <kp value="10000000.0"/>
    <kd value="1.0"/>
    <fdir1 value="1 0 0"/>
  </gazebo>
  <joint name="J_R_WHEEL" type="fixed">
    <parent link="base_link"/>
    <child link="R_WHEEL"/>
    <origin rpy="0 0 0" xyz="0.0 -0.29 0.1"/>
    <axis rpy="0 0 0" xyz="0 1 0"/>
    <limit effort="50" velocity="100"/>
  </joint>
  <transmission name="R_WHEEL_TRANS" type="SimpleTransmission">
    <type>transmission_interface/SimpleTransmission</type>
    <actuator name="R_WHEEL_MOTOR">
      <mechanicalReduction>1</mechanicalReduction>
    </actuator>
    <joint name="J_R_WHEEL">
      <hardwareInterface>hardware_interface/VelocityJointInterface</hardwareInterface>
    </joint>
  </transmission>
  <!-- Caster Wheels (collision only) -->
  <link name="cw_fl_link">
    <inertial>
      <mass value="3.0"/>
      <origin xyz="0 0 0"/>
      <inertia ixx="0.002275" ixy="0" ixz="0" iyy="0.00375" iyz="0" izz="0.002275"/>
    </inertial>
    <collision>
      <origin rpy="1.5707963268 0 0" xyz="0 0 0"/>
      <geometry>
        <cylinder length="0.04" radius="0.05"/>
      </geometry>
    </collision>
  </link>
  <gazebo reference="cw_fl_link">
    <mu1 value="0.0"/>
    <mu2 value="0.0"/>
    <kp value="10000000.0"/>
    <kd value="1.0"/>
    <fdir1 value="1 0 0"/>
  </gazebo>
  <link name="cw_fr_link">
    <inertial>
      <mass value="3.0"/>
      <origin xyz="0 0 0"/>
      <inertia ixx="0.002275" ixy="0" ixz="0" iyy="0.00375" iyz="0" izz="0.002275"/>
    </inertial>
    <collision>
      <origin rpy="1.5707963268 0 0" xyz="0 0 0"/>
      <geometry>
        <cylinder length="0.04" radius="0.05"/>
      </geometry>
    </collision>
  </link>
  <gazebo reference="cw_fr_link">
    <mu1 value="0.0"/>
    <mu2 value="0.0"/>
    <kp value="10000000.0"/>
    <kd value="1.0"/>
    <fdir1 value="1 0 0"/>
  </gazebo>
  <link name="cw_hl_link">
    <inertial>
      <mass value="3.0"/>
      <origin xyz="0 0 0"/>
      <inertia ixx="0.002275" ixy="0" ixz="0" iyy="0.00375" iyz="0" izz="0.002275"/>
    </inertial>
    <collision>
      <origin rpy="1.5707963268 0 0" xyz="0 0 0"/>
      <geometry>
        <cylinder length="0.04" radius="0.05"/>
      </geometry>
    </collision>
  </link>
  <gazebo reference="cw_hl_link">
    <mu1 value="0.0"/>
    <mu2 value="0.0"/>
    <kp value="10000000.0"/>
    <kd value="1.0"/>
    <fdir1 value="1 0 0"/>
  </gazebo>
  <link name="cw_hr_link">
    <inertial>
      <mass value="3.0"/>
      <origin xyz="0 0 0"/>
      <inertia ixx="0.002275" ixy="0" ixz="0" iyy="0.00375" iyz="0" izz="0.002275"/>
    </inertial>
    <collision>
      <origin rpy="1.5707963268 0 0" xyz="0 0 0"/>
      <geometry>
        <cylinder length="0.04" radius="0.05"/>
      </geometry>
    </collision>
  </link>
  <gazebo reference="cw_hr_link">
    <mu1 value="0.0"/>
    <mu2 value="0.0"/>
    <kp value="10000000.0"/>
    <kd value="1.0"/>
    <fdir1 value="1 0 0"/>
  </gazebo>
  <joint name="cw_fl" type="fixed">
    <parent link="base_link"/>
    <child link="cw_fl_link"/>
    <origin rpy="0 0 0" xyz="0.25 0.185 0.005"/>
    <axis rpy="0 0 0" xyz="0 1 0"/>
    <dynamics damping="0.1" friction="0.2"/>
    <limit effort="50" velocity="100"/>
  </joint>
  <joint name="cw_fr" type="fixed">
    <parent link="base_link"/>
    <child link="cw_fr_link"/>
    <origin rpy="0 0 0" xyz="0.25 -0.185 0.005"/>
    <axis rpy="0 0 0" xyz="0 1 0"/>
    <dynamics damping="0.1" friction="0.2"/>
    <limit effort="50" velocity="100"/>
  </joint>
  <joint name="cw_hl" type="fixed">
    <parent link="base_link"/>
    <child link="cw_hl_link"/>
    <origin rpy="0 0 0" xyz="-0.25 0.185 0.005"/>
    <axis rpy="0 0 0" xyz="0 1 0"/>
    <dynamics damping="0.1" friction="0.2"/>
    <limit effort="50" velocity="100"/>
  </joint>
  <joint name="cw_hr" type="fixed">
    <parent link="base_link"/>
    <child link="cw_hr_link"/>
    <origin rpy="0 0 0" xyz="-0.25 -0.185 0.005"/>
    <axis rpy="0 0 0" xyz="0 1 0"/>
    <dynamics damping="0.1" friction="0.2"/>
    <limit effort="50" velocity="100"/>
  </joint>
  <link name="arm_base">
    <inertial>
      <mass value="0.0001"/>
      <origin xyz="0 0 0"/>
      <inertia ixx="0.0001" ixy="0" ixz="0" iyy="0.0001" iyz="0" izz="0.0001"/>
    </inertial>
  </link>
  <joint name="base_to_arm_base" type="fixed">
    <child link="arm_base"/>
    <parent link="base_link"/>
    <origin rpy="0 0 1.57079632679" xyz="0 0 0.309"/>
  </joint>
  <!-- Attaching additional sensors and frames to the base -->
  <!-- IMU Link -->
  <link name="imu_link"/>
  <joint name="imu_joint" type="fixed">
    <origin rpy="3.14159265359 0 3.14159265359" xyz="0.20 0 0.1351"/>
    <parent link="base_link"/>
    <child link="imu_link"/>
  </joint>
  <link name="camera_mount"/>
  <joint name="base_to_camera_mount" type="fixed">
    <child link="camera_mount"/>
    <parent link="base_link"/>
    <origin rpy="3.14159265359 -1.5707963268 0" xyz="-0.38745 -0.00911 0.32995"/>
  </joint>
  <link name="camera_vr_orientation"/>
  <joint name="camera_ros_to_vr_convention" type="fixed">
    <child link="camera_vr_orientation"/>
    <parent link="camera_mount"/>
    <origin rpy="1.5707963268 0 -1.5707963268" xyz="0 0 0"/>
  </joint>
  <link name="realsense_odom_input_frame"/>
  <joint name="base_to_realsense_odom_input_frame" type="fixed">
    <child link="realsense_odom_input_frame"/>
    <parent link="base_link"/>
    <origin rpy="0 0 0" xyz="0 0 0.1"/>
  </joint>
</robot>
